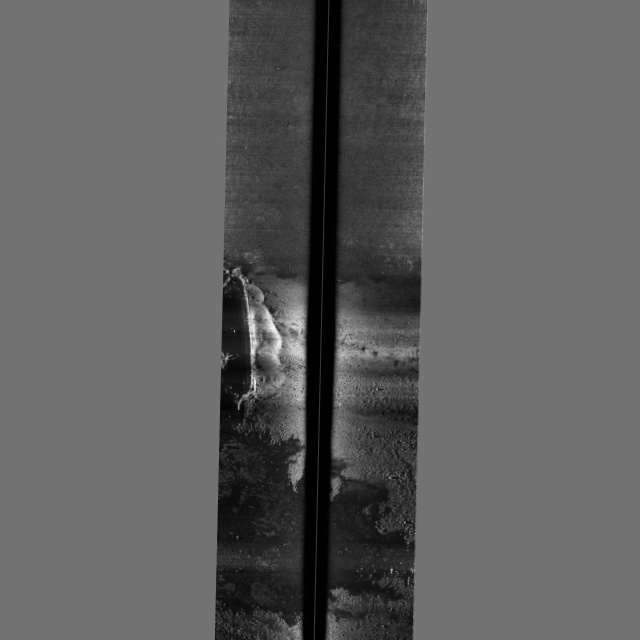Shipwreck: (216, 264, 367, 511)
